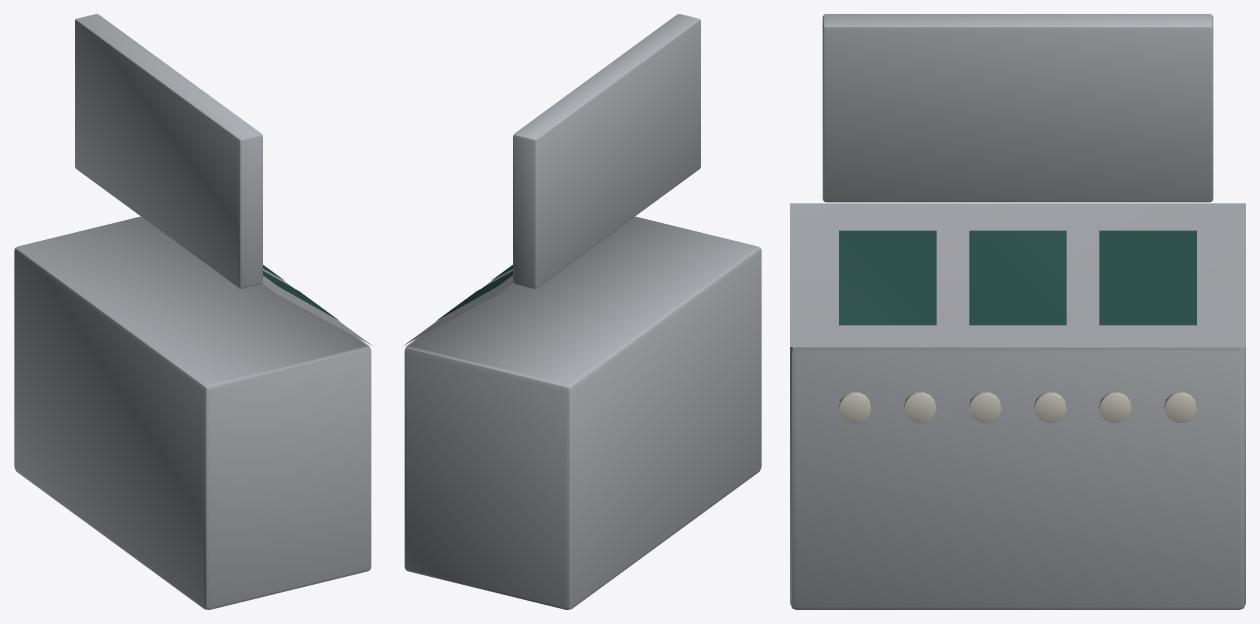
Rendered from console.glb.
The picture shows the model from 3 angles, left to right: view 1: azimuth 30°, elevation 25°; view 2: azimuth 150°, elevation 25°; view 3: azimuth 270°, elevation 25°; orthographic projection. The views are drawn at different scales.
Parts seen in each view (by area): view 1: boat_steel, boat_screen; view 2: boat_steel, boat_screen; view 3: boat_steel, boat_screen, boat_dial.
Boxes of the visible parts, x1,y1,x2,y2 form: boat_steel: (14, 14, 372, 609); boat_screen: (263, 265, 339, 320); boat_steel: (403, 14, 761, 609); boat_screen: (436, 265, 512, 320); boat_steel: (790, 14, 1245, 609); boat_screen: (839, 230, 1196, 325); boat_dial: (839, 392, 1196, 422).
Bounding box in the file's own units: 0.72 × 1.8 × 1.4.
